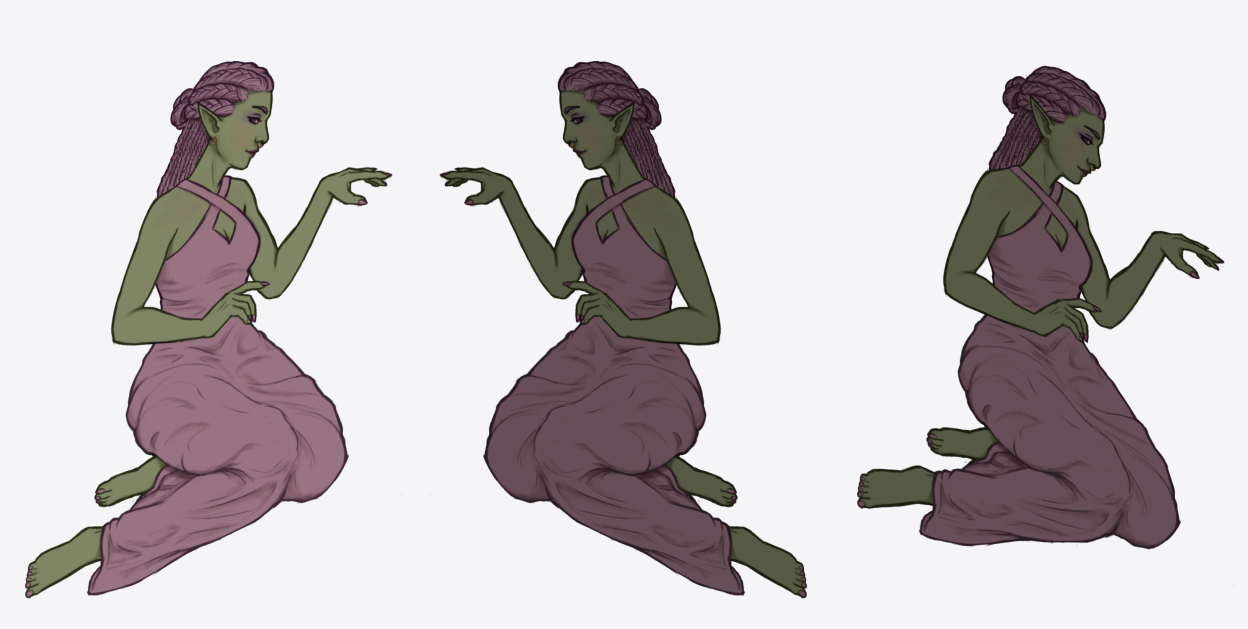
File: heather.glb
3 views of the same model, side by side, from view 1: azimuth 30°, elevation 25°; view 2: azimuth 150°, elevation 25°; view 3: azimuth 330°, elevation 25° (orthographic).
Visible parts, largest first — view 1: char; view 2: char; view 3: char.
Boxes of the visible parts, <box> form: char: <box>25,61,392,598</box>; char: <box>439,61,806,598</box>; char: <box>857,65,1224,549</box>.
Bounding box in the file's own units: 6.51 × 8.21 × 1e-05.
Materials: 1 (1 with a texture image).
